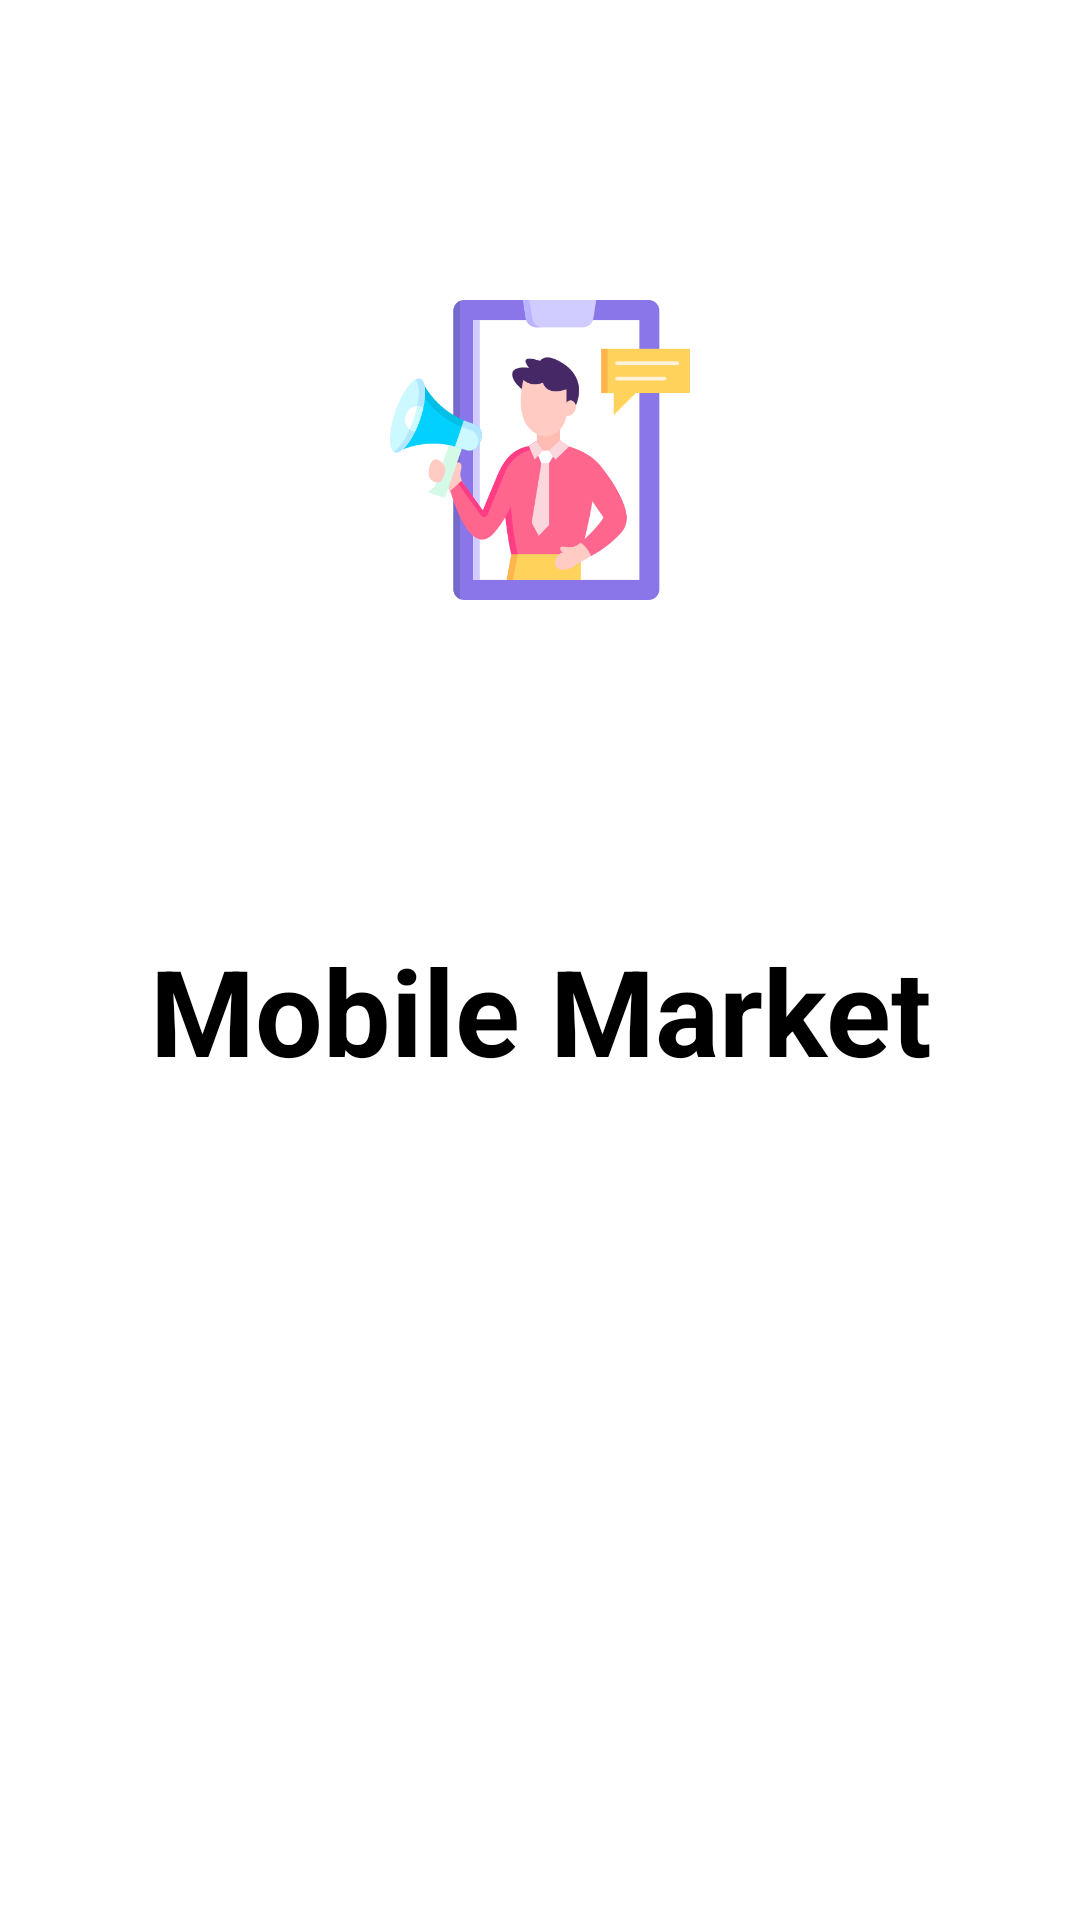

Icon bounding boxes for this 1080w x 1920h phone screenshot, format (x1, y1, x2, y2):
market: (390, 300, 690, 600)
